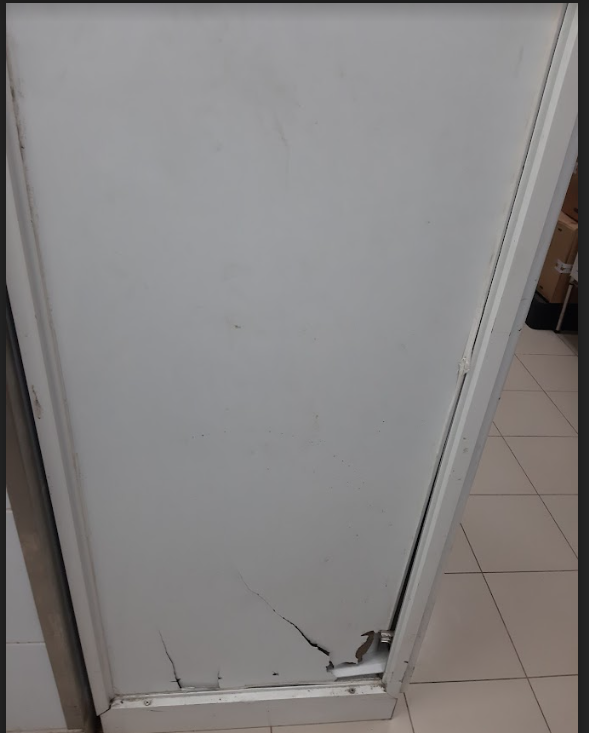Aluminum Shelves: (6, 4, 581, 733)
